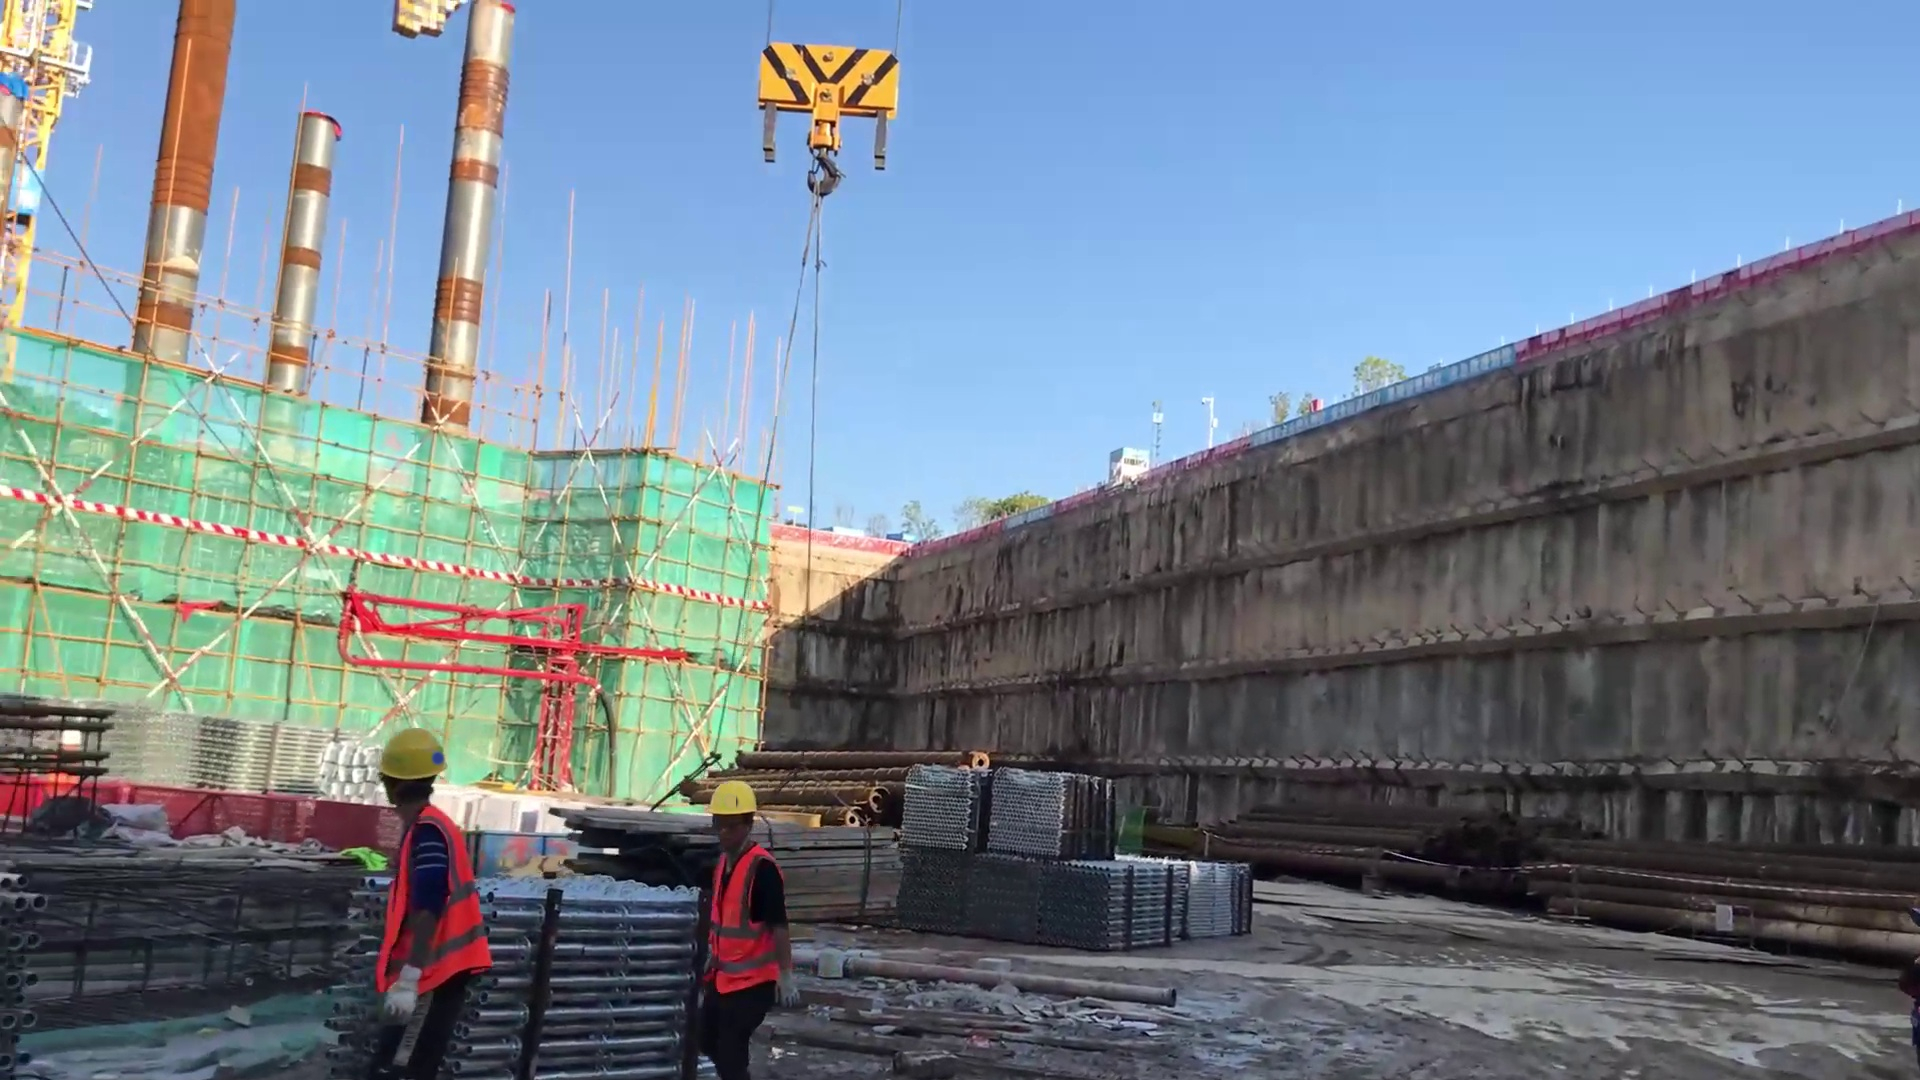helmet: (694, 766, 774, 826), (381, 724, 442, 768)
hook: (751, 29, 905, 201)
person: (355, 727, 477, 1080), (679, 756, 790, 1080)
scaffold: (858, 751, 1250, 947), (415, 860, 730, 1080)
slogan: (1244, 330, 1529, 456)
vest: (367, 797, 497, 999), (694, 837, 788, 1000)
